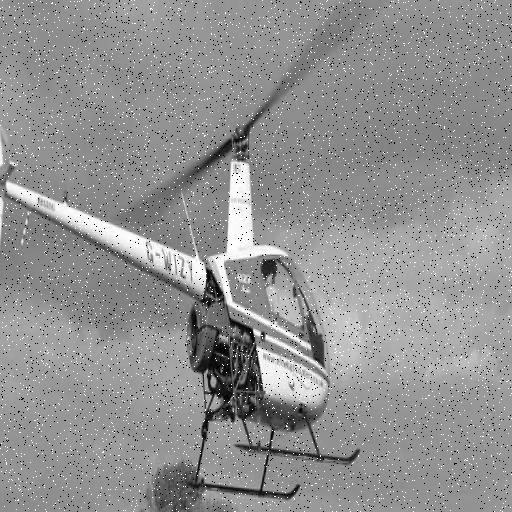helicopter: (1, 1, 399, 503)
